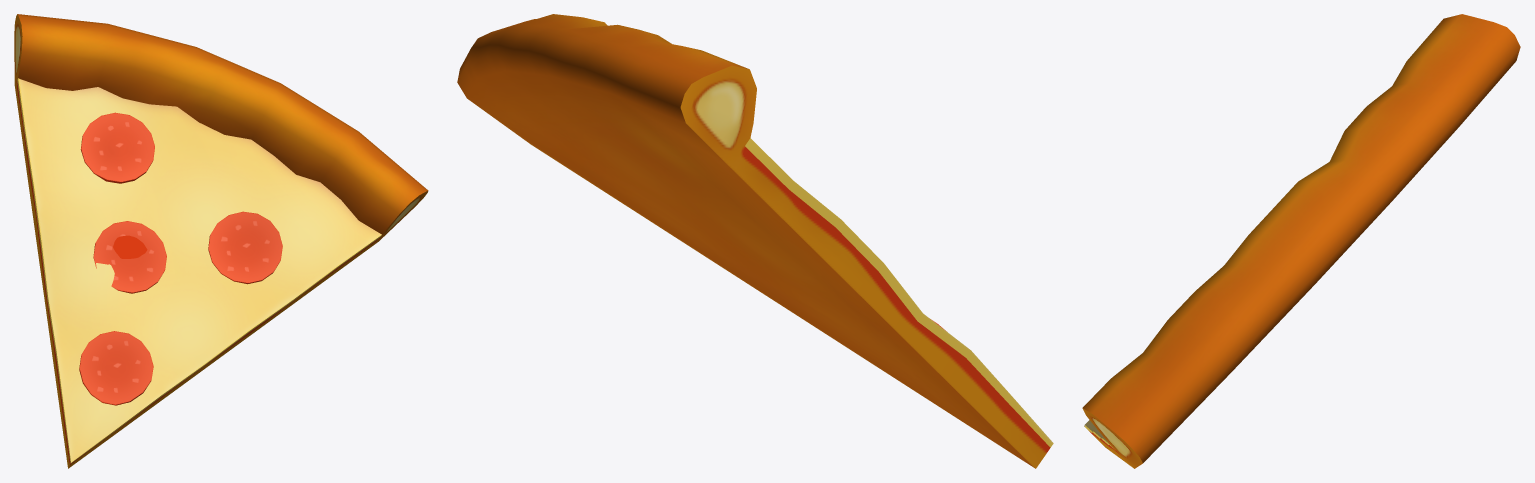
The model's file is pizza.FBX.
The picture shows the model from 3 angles, left to right: view 1: azimuth 30°, elevation 25°; view 2: azimuth 150°, elevation 25°; view 3: azimuth 270°, elevation 25°; orthographic projection. The views are drawn at different scales.
Parts seen in each view (by area): view 1: pizza; view 2: pizza; view 3: pizza.
Part boxes in pixels (x1,y1,x2,y2): pizza: (14, 14, 428, 468); pizza: (457, 14, 1053, 468); pizza: (1082, 14, 1520, 468).
Size of the model in its own units: 39.87 by 34.32 by 27.97.
